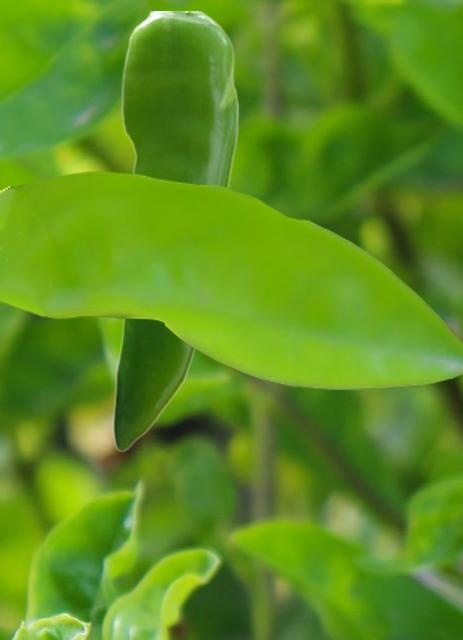green_chili: (112, 11, 237, 450)
